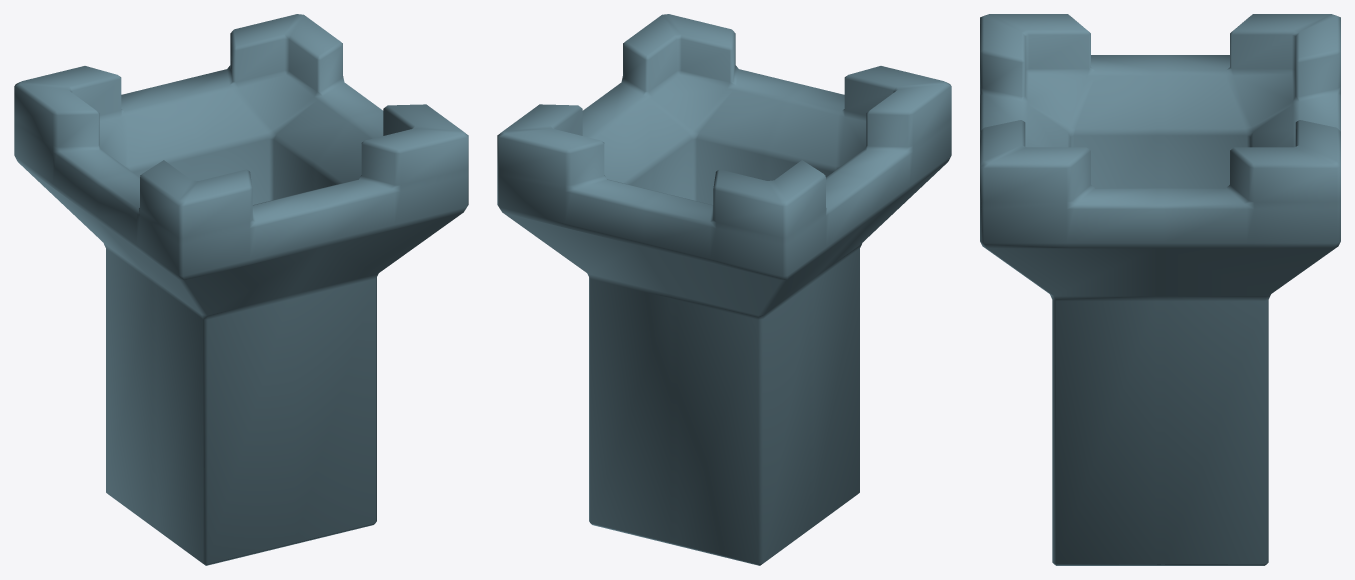
The model's file is tower.002.glb.
3 renders of one model, left to right at view 1: azimuth 30°, elevation 25°; view 2: azimuth 150°, elevation 25°; view 3: azimuth 270°, elevation 25°, orthographic. The views are drawn at different scales.
Parts seen in each view (by area): view 1: tower.002; view 2: tower.002; view 3: tower.002.
Part boxes in pixels (x1=…): tower.002: x1=14, y1=14, x2=468, y2=565; tower.002: x1=497, y1=14, x2=951, y2=565; tower.002: x1=980, y1=14, x2=1340, y2=565.
Bounding box in the file's own units: 4.73 × 6.26 × 4.73.
